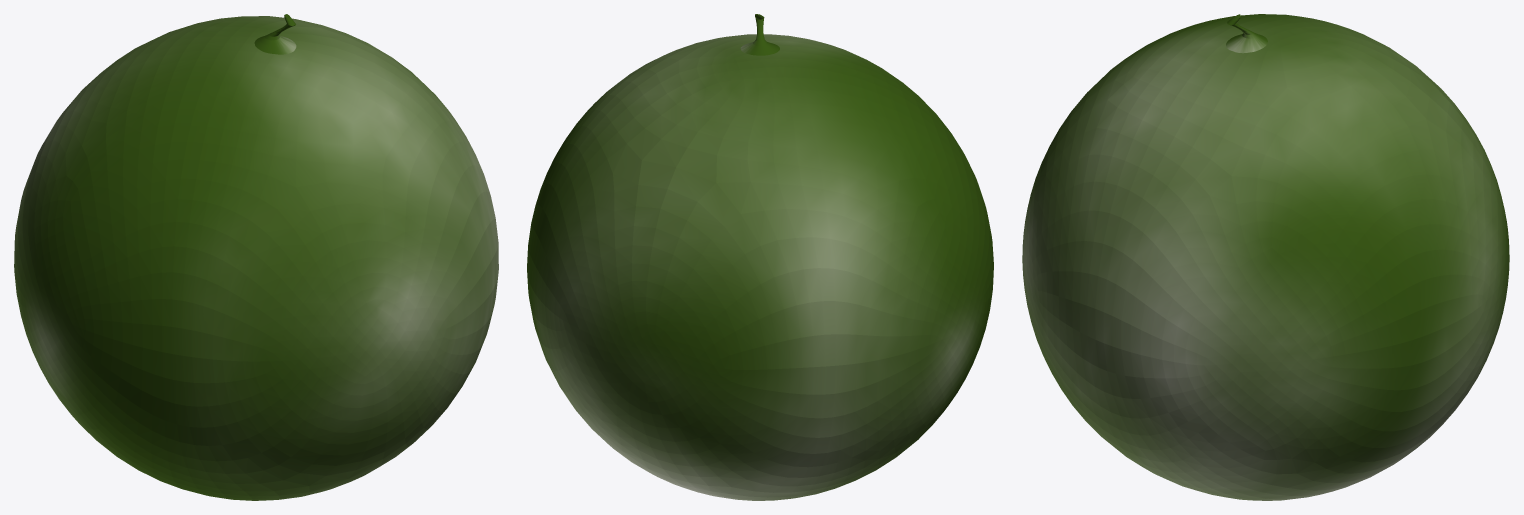
Rendered from trimelon.dae.
3 renders of one model, left to right at view 1: azimuth 30°, elevation 25°; view 2: azimuth 150°, elevation 25°; view 3: azimuth 270°, elevation 25°, orthographic. The views are drawn at different scales.
Visible parts, largest first — view 1: node; view 2: node; view 3: node.
Part boxes in pixels (x1,y1,x2,y2): node: (14,14,498,500); node: (527,14,993,500); node: (1022,14,1509,500).
Size of the model in its own units: 13.74 by 14.67 by 13.75.
